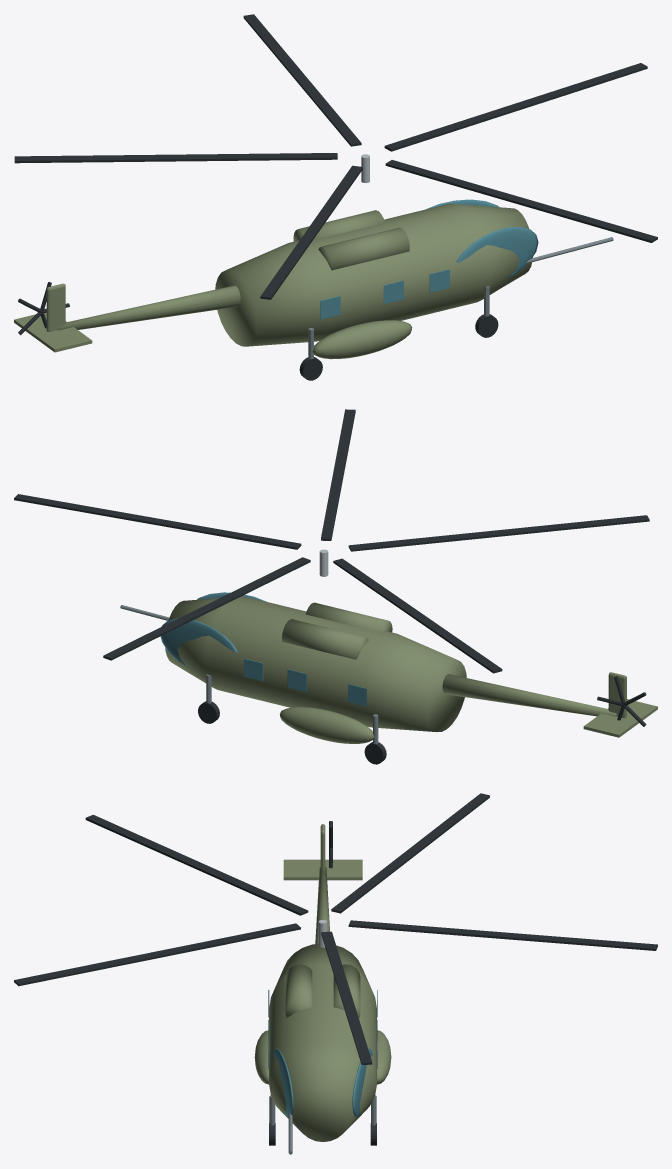
The model's file is helicopter_heavy_lift.glb.
3 views of the same model, one above another, from view 1: azimuth 30°, elevation 25°; view 2: azimuth 150°, elevation 25°; view 3: azimuth 270°, elevation 25° (orthographic). The views are drawn at different scales.
Visible parts, largest first — view 1: VisibleGeometry; view 2: VisibleGeometry; view 3: VisibleGeometry.
Boxes of the visible parts, bbox=[...] form: VisibleGeometry: bbox=[14, 14, 657, 380]; VisibleGeometry: bbox=[14, 409, 657, 764]; VisibleGeometry: bbox=[14, 793, 657, 1154].
Bounding box in the file's own units: 20.06 × 5.51 × 17.92.
